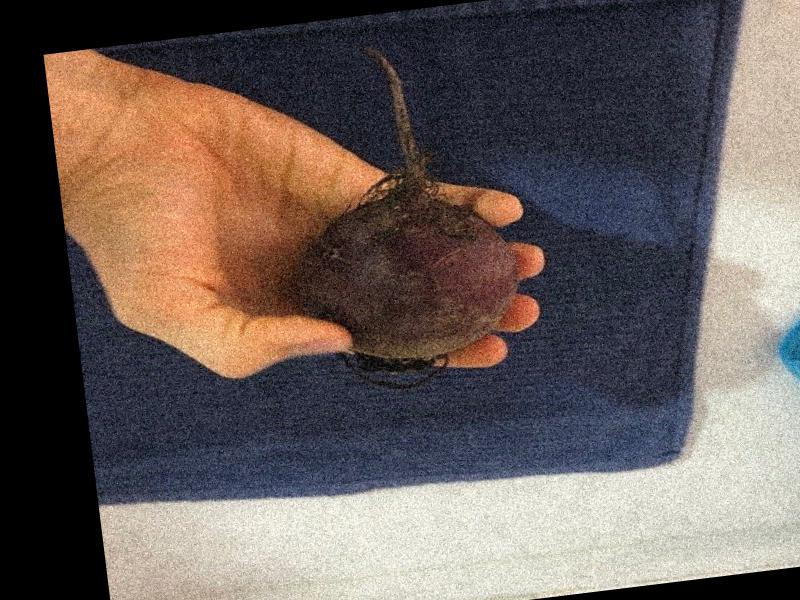Beet: (271, 32, 531, 399)
